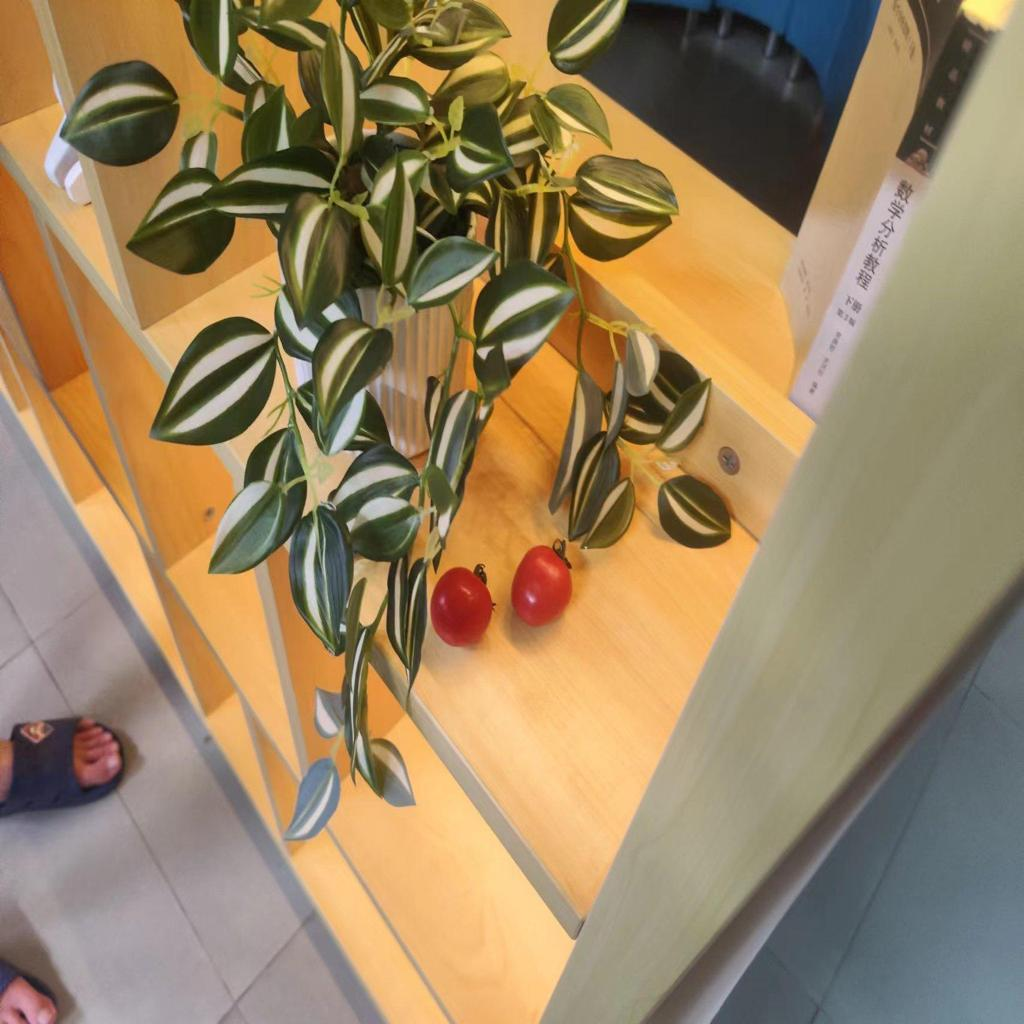tomato: (428, 563, 498, 652), (515, 536, 574, 631)
